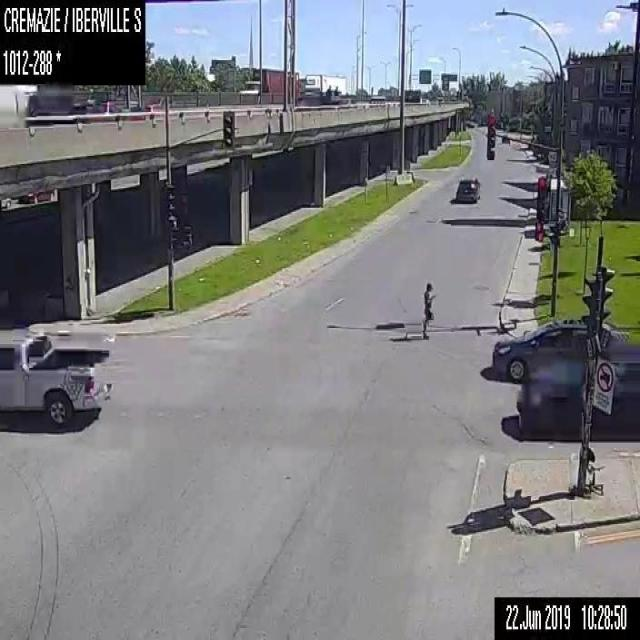pedestrian: (420, 283, 436, 340)
vehicle: (516, 342, 639, 436), (0, 330, 115, 430), (491, 316, 629, 383), (26, 85, 103, 122), (240, 67, 299, 103), (304, 73, 346, 102), (455, 176, 481, 203), (419, 97, 429, 106), (501, 133, 509, 142), (436, 96, 443, 104)
